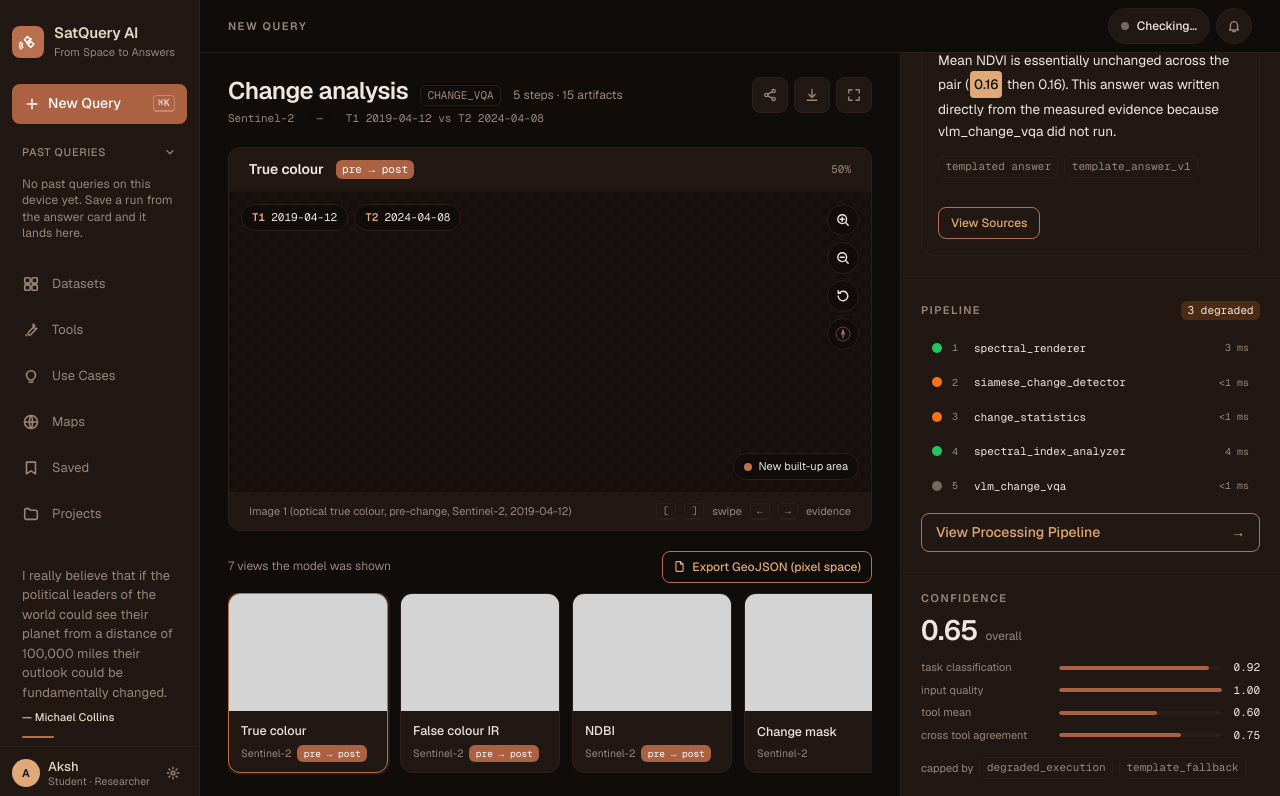
it: the pipeline modal › mounts the DAG only after the button is clicked
The width and height of the screenshot is (1280, 796).
(page scrolled)
Click the text "View Processing Pipeline". click: (1018, 532)
box: [936,522,1100,543]
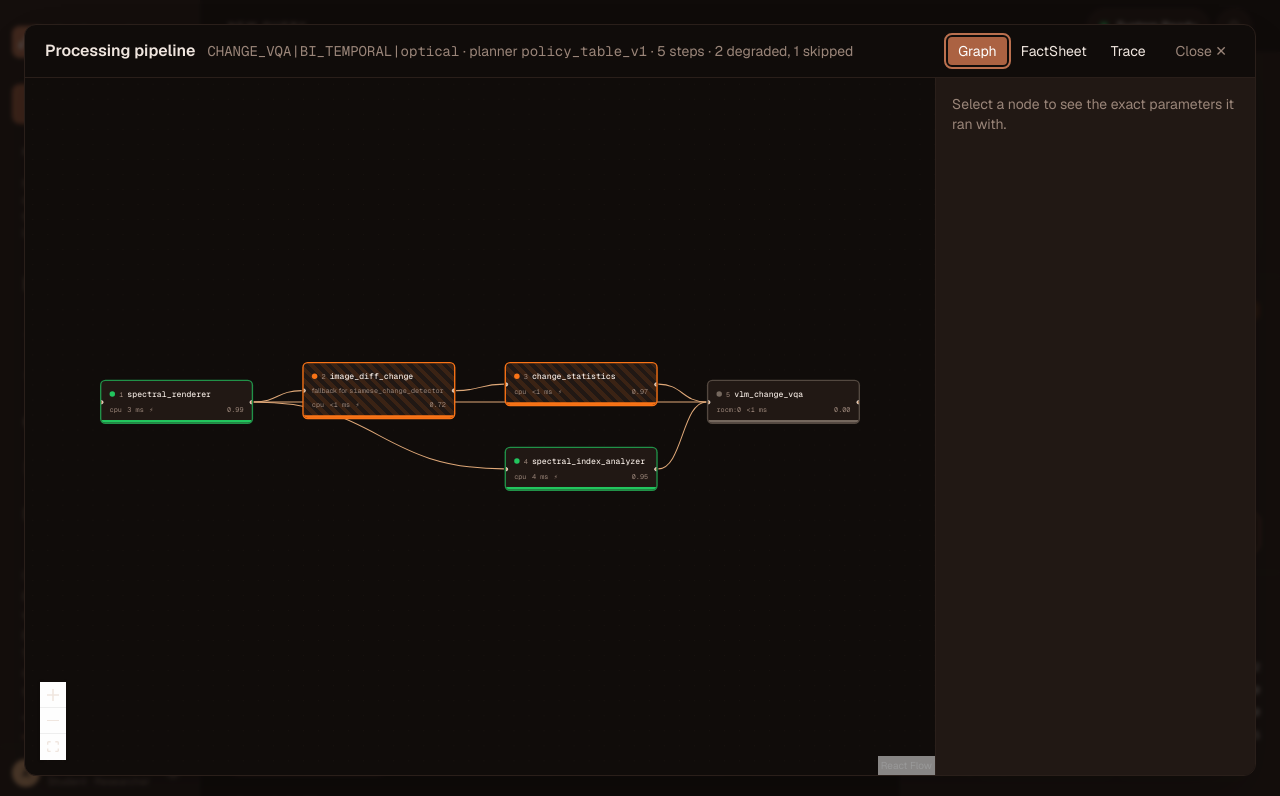
Expected: the heading "Processing pipeline" is shown, [45,39,195,63]
Expected: the text "CHANGE_VQA|BI_TEMPORAL|optical" is shown, [207,42,459,60]
